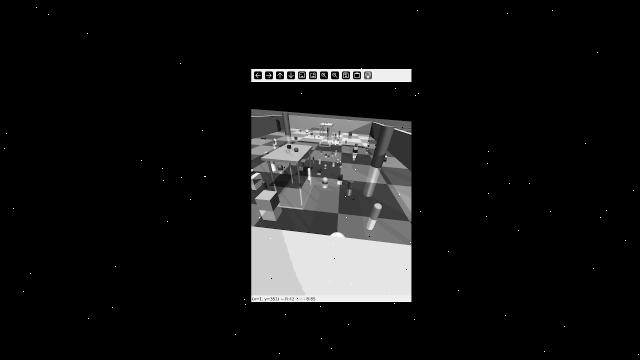cilindro: (371, 123, 396, 168), (366, 201, 385, 226), (282, 112, 291, 135), (348, 178, 354, 191), (262, 181, 268, 189), (268, 160, 274, 165), (272, 143, 276, 150), (307, 168, 311, 174), (259, 136, 266, 139), (273, 138, 278, 142), (318, 159, 322, 164), (340, 162, 344, 167), (327, 127, 330, 133), (330, 152, 334, 156), (338, 141, 342, 145), (287, 149, 290, 154), (338, 130, 341, 135), (335, 149, 338, 153), (312, 157, 315, 160), (346, 140, 349, 143), (313, 134, 316, 137), (328, 137, 330, 141), (326, 122, 328, 125), (335, 133, 337, 136)
cuadrado: (253, 189, 280, 212), (297, 161, 306, 169), (334, 174, 342, 181), (262, 152, 269, 157), (286, 144, 291, 149), (324, 137, 330, 140), (348, 132, 353, 135), (292, 137, 297, 140), (332, 163, 335, 167), (332, 136, 335, 140), (328, 122, 331, 125), (325, 153, 327, 157), (354, 147, 357, 149), (355, 144, 358, 146), (300, 130, 302, 132), (311, 133, 312, 135), (375, 144, 377, 145)
esfera: (318, 175, 329, 187), (277, 163, 283, 171), (303, 129, 310, 133), (365, 148, 370, 153), (294, 148, 298, 153), (304, 133, 309, 137), (335, 136, 340, 140), (323, 164, 328, 167), (317, 134, 320, 138), (321, 148, 323, 153), (335, 159, 340, 161), (368, 144, 371, 147), (327, 154, 330, 157), (383, 156, 387, 158), (333, 140, 336, 142), (324, 123, 326, 125), (367, 140, 370, 141)
rectangulo: (252, 171, 263, 190), (316, 167, 323, 174), (331, 132, 335, 136), (353, 150, 358, 153)
